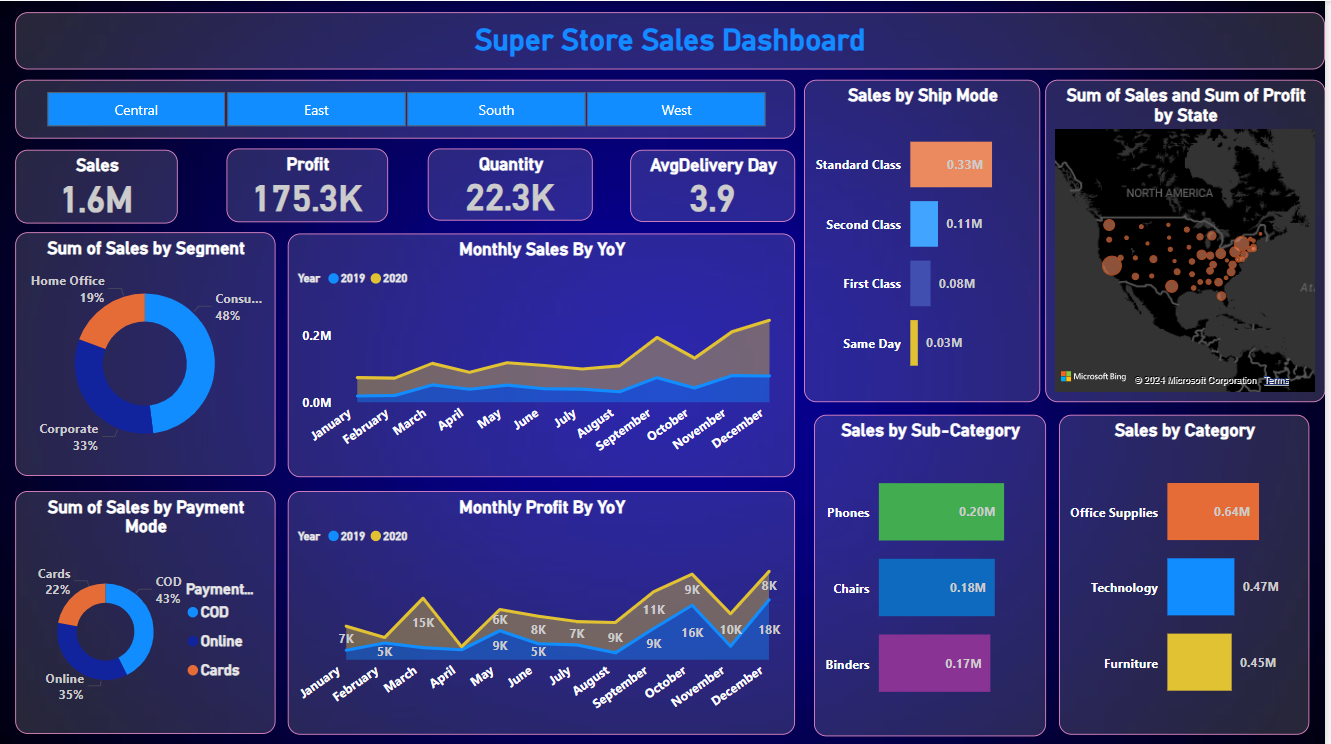

Layout of this report page (visuals, bound fields, positions):
{"tool":"powerbi","page":{"name":"Super Store Sales","canvas":[1280,720],"ordinal":0},"visuals":[{"type":"clusteredBarChart","title":"Sales by Category","fields":{"Category":["SuperStore_Sales_Dataset.Category"],"Y":["Sum(SuperStore_Sales_Dataset.Sales)"]},"box":[1023.1,399.3,241.3,308.8],"z":0},{"type":"clusteredBarChart","title":"Sales by Sub-Category","fields":{"Category":["SuperStore_Sales_Dataset.Sub-Category"],"Y":["Sum(SuperStore_Sales_Dataset.Sales)"]},"box":[786.3,399.3,223.7,310.1],"z":1000},{"type":"clusteredBarChart","title":"Sales by Ship Mode","fields":{"Category":["SuperStore_Sales_Dataset.Ship Mode","SuperStore_Sales_Dataset.Sub-Category"],"Y":["Sum(SuperStore_Sales_Dataset.Sales)"]},"box":[776.9,76,228,311.3],"z":2000},{"type":"stackedAreaChart","title":"Monthly Sales By YoY","fields":{"Y":["Sum(SuperStore_Sales_Dataset.Sales)"],"Category":["SuperStore_Sales_Dataset.Order Date.Variation.Date Hierarchy.Month"],"Series":["SuperStore_Sales_Dataset.Order Date.Variation.Date Hierarchy.Year"]},"box":[278.7,224.4,489.8,235.3],"z":3000},{"type":"stackedAreaChart","title":"Monthly Profit By YoY","fields":{"Category":["SuperStore_Sales_Dataset.Order Date.Variation.Date Hierarchy.Month"],"Series":["SuperStore_Sales_Dataset.Order Date.Variation.Date Hierarchy.Year"],"Y":["Sum(SuperStore_Sales_Dataset.Profit)"]},"box":[278.7,472.9,489.8,235.3],"z":4000},{"type":"map","fields":{"Category":["SuperStore_Sales_Dataset.State"],"Size":["Sum(SuperStore_Sales_Dataset.Sales)"]},"box":[1009.8,76,270.2,311.3],"z":5000},{"type":"donutChart","fields":{"Category":["SuperStore_Sales_Dataset.Segment"],"Y":["Sum(SuperStore_Sales_Dataset.Sales)"]},"box":[15.7,223.2,250.9,235.3],"z":6000},{"type":"donutChart","fields":{"Category":["SuperStore_Sales_Dataset.Payment Mode"],"Y":["Sum(SuperStore_Sales_Dataset.Sales)"]},"box":[15.7,472.9,250.9,234],"z":7000},{"type":"slicer","fields":{"Values":["SuperStore_Sales_Dataset.Region"]},"box":[15.7,76,752.8,56.7],"z":8000},{"type":"card","title":"Sales","fields":{"Values":["Sum(SuperStore_Sales_Dataset.Sales)"]},"box":[15.7,143.6,156.8,71.2],"z":9000},{"type":"card","title":"Profit","fields":{"Values":["Sum(SuperStore_Sales_Dataset.Profit)"]},"box":[219.6,142.4,155.6,71.2],"z":10000},{"type":"card","title":"Quantity","fields":{"Values":["Sum(SuperStore_Sales_Dataset.Quantity)"]},"box":[413.8,142.4,159.3,70],"z":11000},{"type":"card","title":"AvgDelivery Day","fields":{"Values":["Avg(SuperStore_Sales_Dataset.AvgDeliveryDay)"]},"box":[609.3,143.6,159.3,70],"z":12000},{"type":"textbox","box":[15.7,10.9,1264.3,55.5],"z":13000}]}

Visuals, with their boxes in screenshot pixels (x1, y1, x2, y2), scaled from the page's 1280x720 canvas onto the 1331x744 screenshot:
"Sales by Category" clusteredBarChart: {"x1": 1064, "y1": 413, "x2": 1315, "y2": 732}
"Sales by Sub-Category" clusteredBarChart: {"x1": 818, "y1": 413, "x2": 1050, "y2": 733}
"Sales by Ship Mode" clusteredBarChart: {"x1": 808, "y1": 79, "x2": 1045, "y2": 400}
"Monthly Sales By YoY" stackedAreaChart: {"x1": 290, "y1": 232, "x2": 799, "y2": 475}
"Monthly Profit By YoY" stackedAreaChart: {"x1": 290, "y1": 489, "x2": 799, "y2": 732}
map - SuperStore_Sales_Dataset.State x Sum(SuperStore_Sales_Dataset.Sales): {"x1": 1050, "y1": 79, "x2": 1330, "y2": 400}
donutChart - SuperStore_Sales_Dataset.Segment x Sum(SuperStore_Sales_Dataset.Sales): {"x1": 16, "y1": 231, "x2": 277, "y2": 474}
donutChart - SuperStore_Sales_Dataset.Payment Mode x Sum(SuperStore_Sales_Dataset.Sales): {"x1": 16, "y1": 489, "x2": 277, "y2": 730}
slicer - SuperStore_Sales_Dataset.Region: {"x1": 16, "y1": 79, "x2": 799, "y2": 137}
"Sales" card: {"x1": 16, "y1": 148, "x2": 179, "y2": 222}
"Profit" card: {"x1": 228, "y1": 147, "x2": 390, "y2": 221}
"Quantity" card: {"x1": 430, "y1": 147, "x2": 596, "y2": 219}
"AvgDelivery Day" card: {"x1": 634, "y1": 148, "x2": 799, "y2": 221}
textbox: {"x1": 16, "y1": 11, "x2": 1330, "y2": 69}
